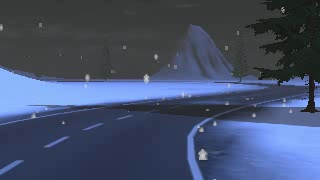Lane: (0, 81, 308, 179)
